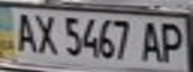4: (78, 15, 100, 58)
5: (57, 14, 84, 57)
6: (97, 16, 118, 60)
7: (112, 17, 136, 61)
A: (136, 18, 166, 63), (9, 9, 39, 54)
P: (154, 19, 190, 63)
X: (30, 10, 60, 56)
